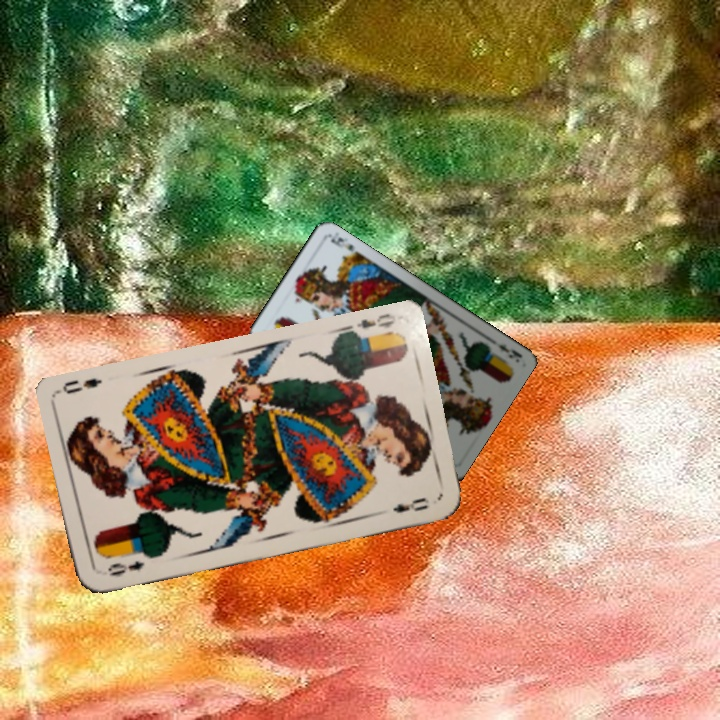EK: (495, 340, 523, 361)
EO: (341, 309, 399, 342), (103, 556, 147, 579)
